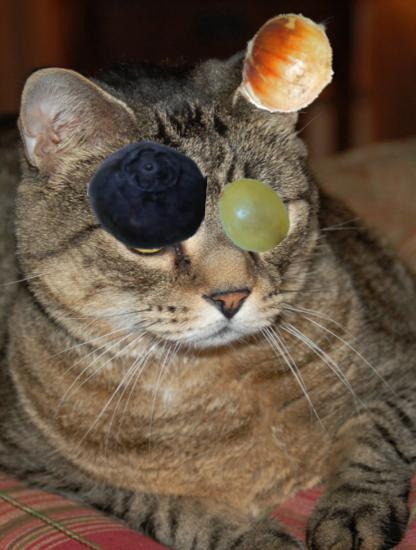Blueberry: (87, 136, 206, 255)
Grape: (213, 175, 293, 255)
Onion: (237, 12, 342, 117)
